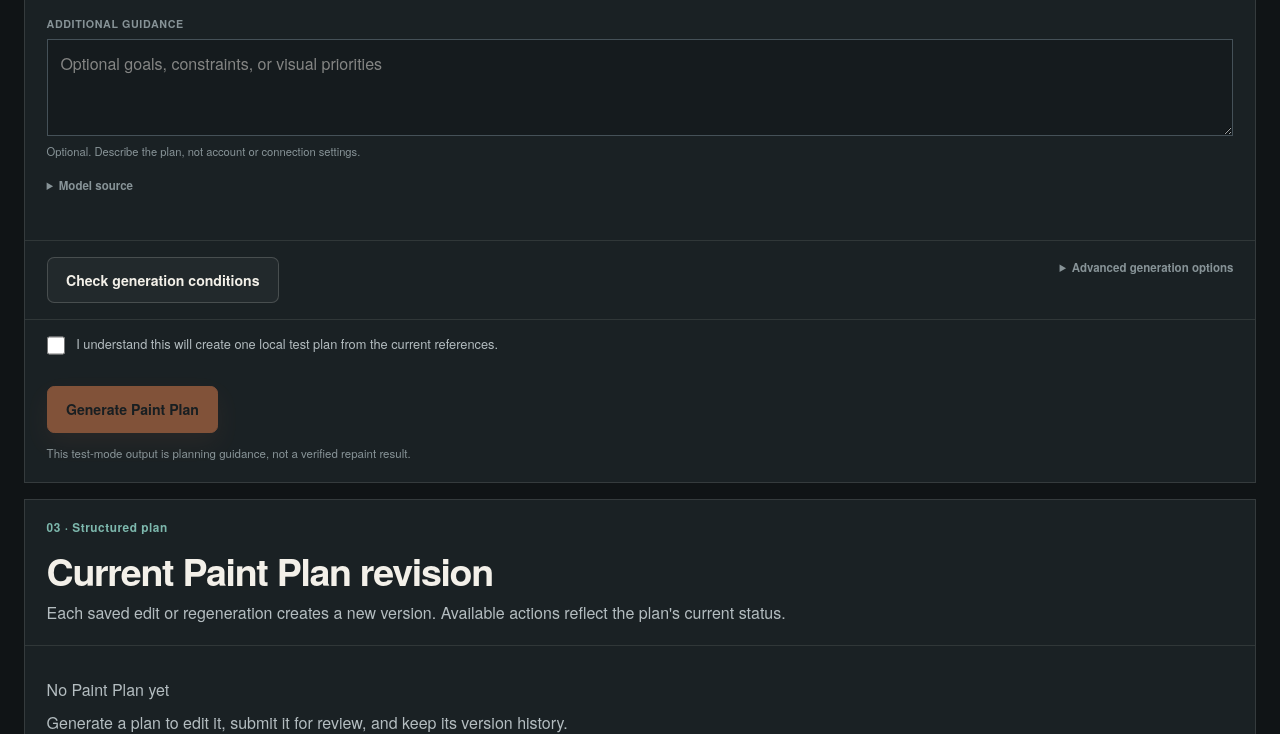
Test: Paint Plan workbench › checks and generates one local test revision with a protected command
The image size is (1280, 734).
(page scrolled)
Click the checkbox labelled "I understand this will create one local test plan" at x=56, y=345, box [47,336,65,355]
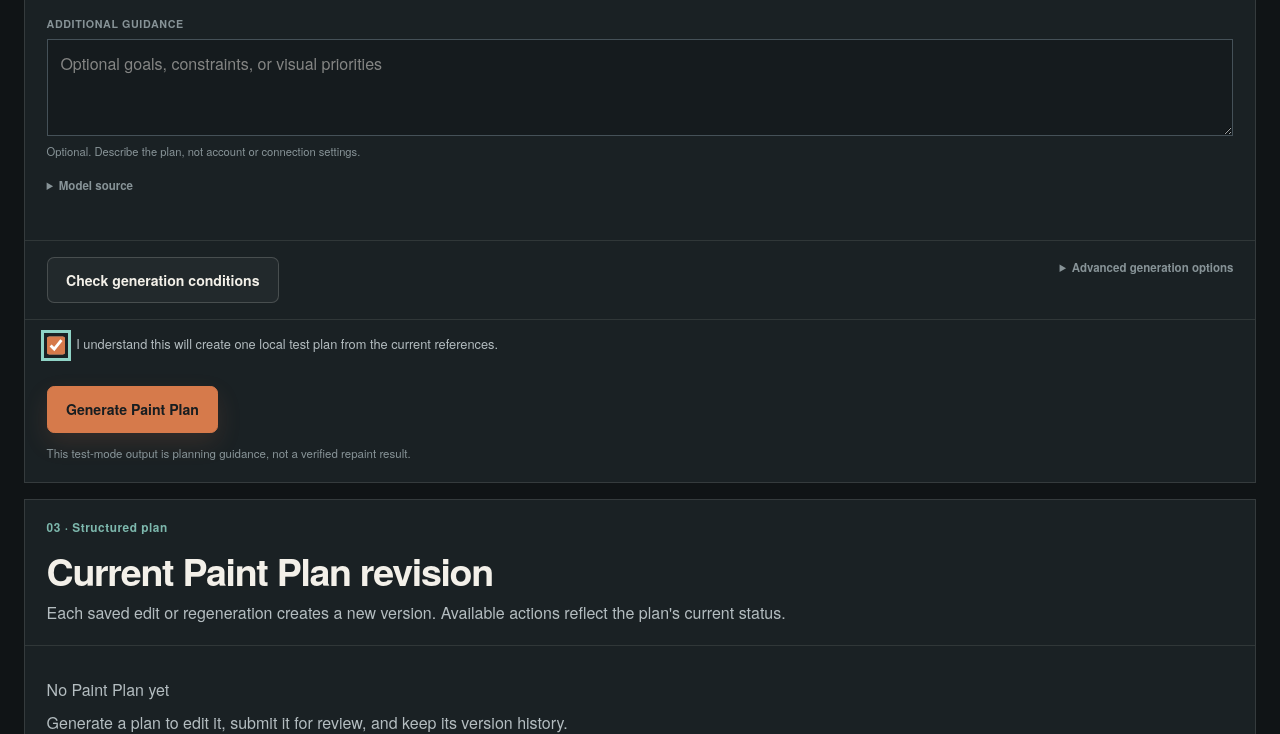
Click the button "Generate Paint Plan" at x=132, y=410, box [47,386,218,433]
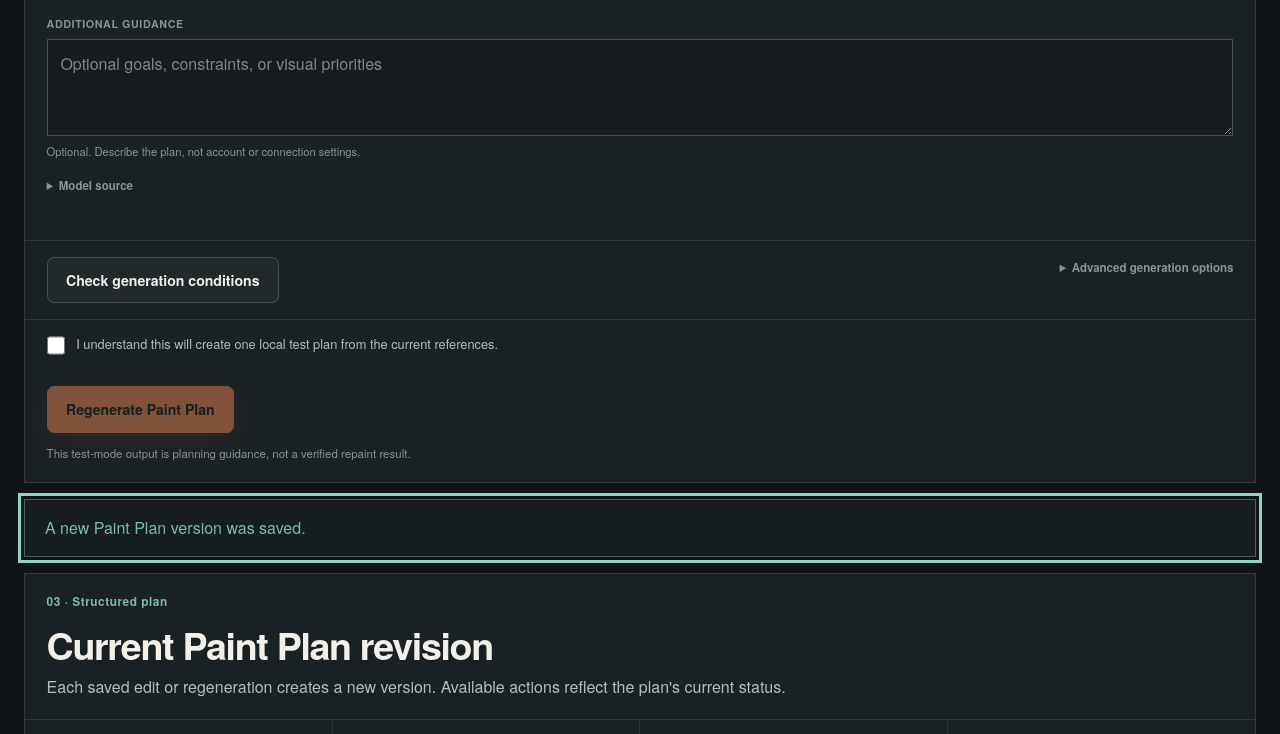
Now the text "A new Paint Plan version was saved." is shown, box [24,499,1256,557]
